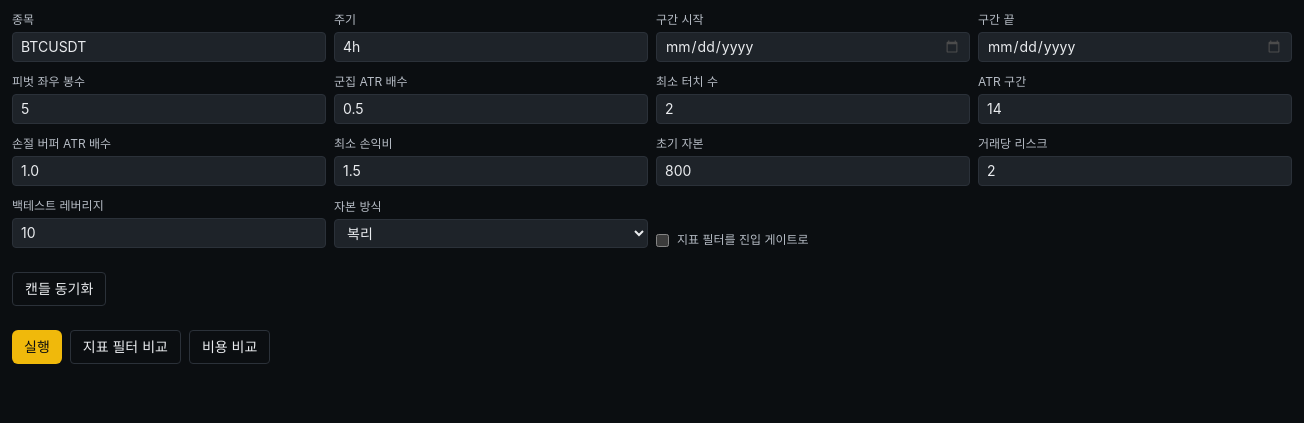
Test: 백테스트 › 422 응답의 detail 문장이 그대로 나온다
Click the button "실행". click: (37, 347)
box: [12,330,62,364]
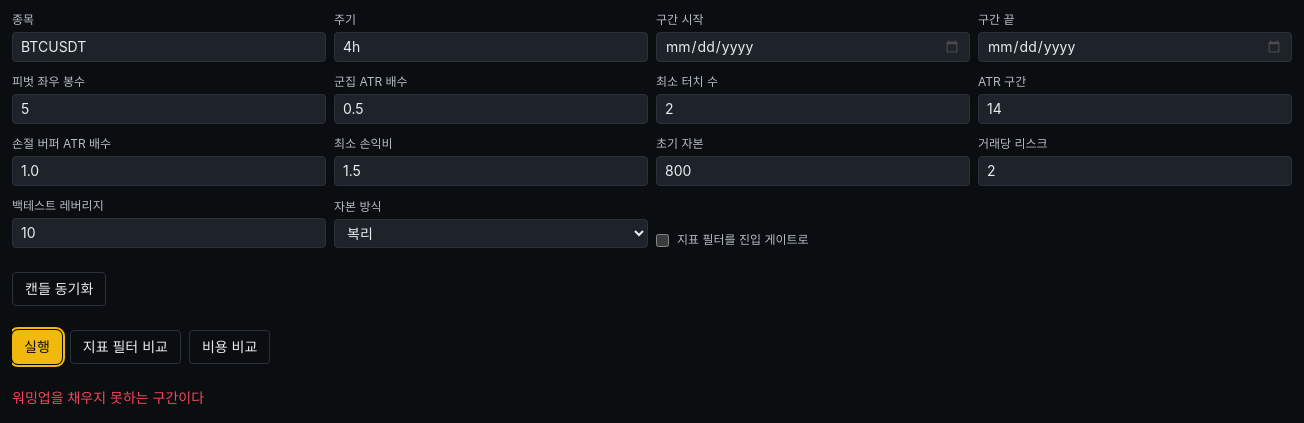
Expected: the message reads "워밍업을 채우지 못하는 구간이다", [12,389,204,406]
